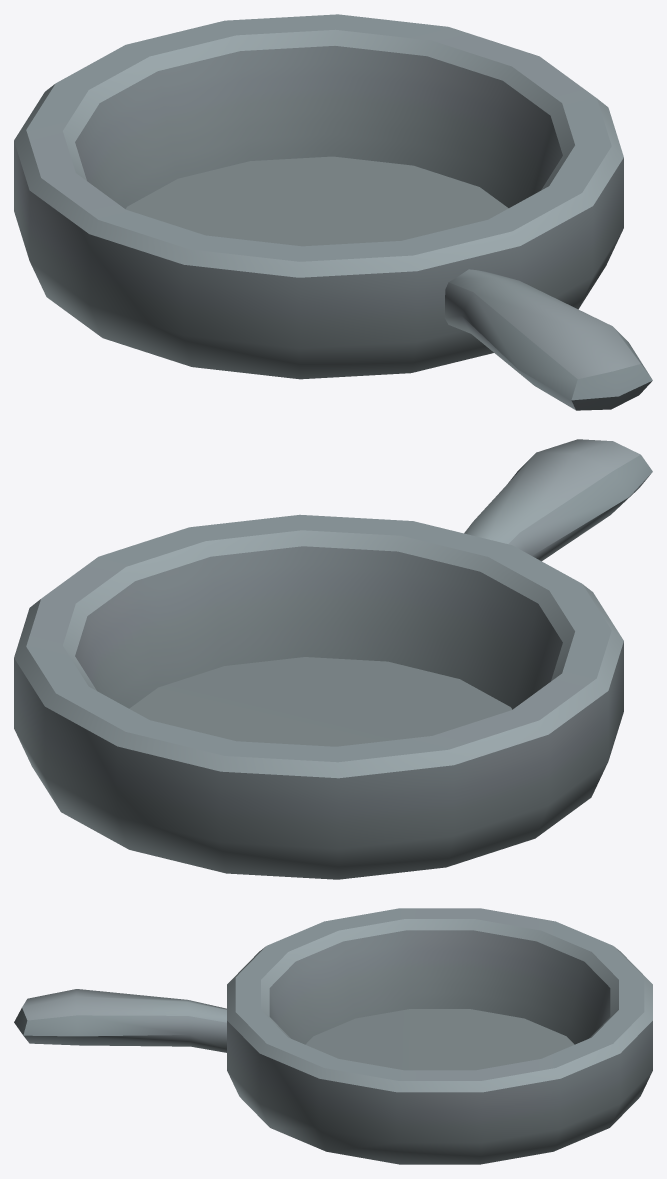
The model's file is kay-frigideira.gltf.
3 renders of one model, top to bottom at view 1: azimuth 30°, elevation 25°; view 2: azimuth 150°, elevation 25°; view 3: azimuth 270°, elevation 25°, orthographic. The views are drawn at different scales.
Parts seen in each view (by area): view 1: pan_A; view 2: pan_A; view 3: pan_A.
Part boxes in pixels (x1,y1,x2,y2): pan_A: (14, 14, 652, 410); pan_A: (14, 439, 652, 879); pan_A: (14, 908, 652, 1164).
Size of the model in its own units: 0.65 by 0.1625 by 0.975.
1 material, 1 textured.
